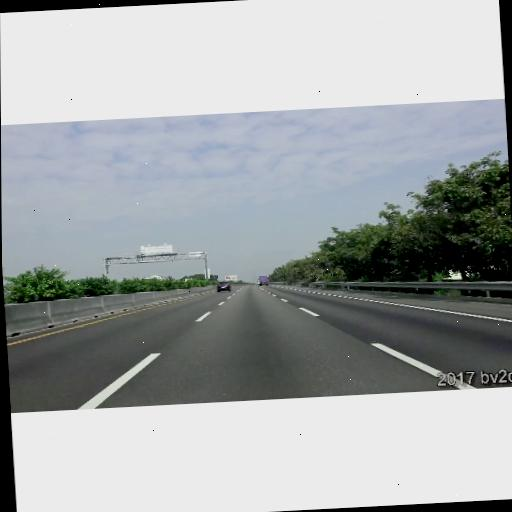Car: (217, 281, 232, 293), (258, 275, 270, 287)
